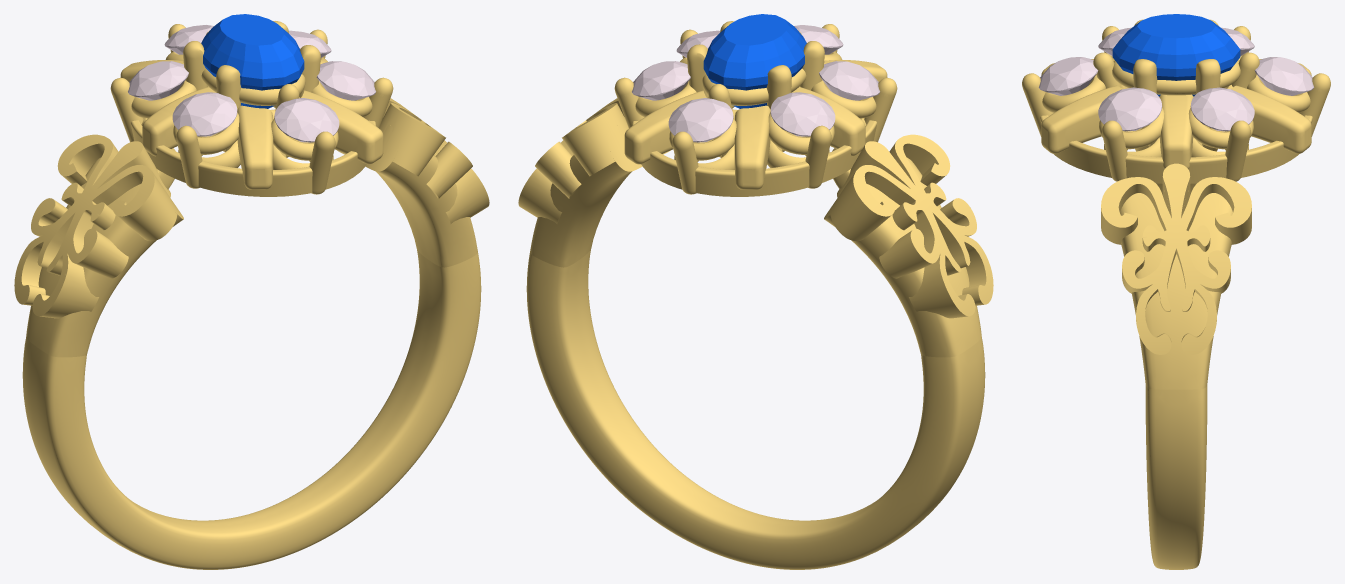
File: JillDygring.glb
The picture shows the model from 3 angles, left to right: view 1: azimuth 30°, elevation 25°; view 2: azimuth 150°, elevation 25°; view 3: azimuth 270°, elevation 25°; orthographic projection.
Visible parts, largest first — view 1: Jillian YG for 3d model, Jillian sapphire for 3d model, Jillian dia for 3d model.005, Jillian dia for 3d model, Jillian dia for 3d model.002, Jillian dia for 3d model.004, Jillian dia for 3d model.001; view 2: Jillian YG for 3d model, Jillian sapphire for 3d model, Jillian dia for 3d model.002, Jillian dia for 3d model.001, Jillian dia for 3d model.005, Jillian dia for 3d model.003, Jillian dia for 3d model; view 3: Jillian YG for 3d model, Jillian sapphire for 3d model, Jillian dia for 3d model.004, Jillian dia for 3d model.003, Jillian dia for 3d model, Jillian dia for 3d model.001.
Boxes of the visible parts, x1,y1,x2,y2 form: Jillian YG for 3d model: (14, 21, 489, 569); Jillian sapphire for 3d model: (201, 14, 304, 108); Jillian dia for 3d model.005: (172, 92, 237, 136); Jillian dia for 3d model: (274, 98, 339, 142); Jillian dia for 3d model.002: (128, 61, 188, 100); Jillian dia for 3d model.004: (316, 61, 375, 100); Jillian dia for 3d model.001: (164, 25, 213, 54); Jillian YG for 3d model: (518, 21, 993, 569); Jillian sapphire for 3d model: (703, 14, 806, 108); Jillian dia for 3d model.002: (770, 92, 835, 136); Jillian dia for 3d model.001: (668, 98, 733, 142); Jillian dia for 3d model.005: (819, 61, 879, 100); Jillian dia for 3d model.003: (632, 61, 690, 100); Jillian dia for 3d model: (794, 25, 843, 54); Jillian YG for 3d model: (1022, 19, 1330, 569); Jillian sapphire for 3d model: (1112, 14, 1240, 96); Jillian dia for 3d model.004: (1098, 87, 1162, 131); Jillian dia for 3d model.003: (1190, 87, 1254, 131); Jillian dia for 3d model: (1038, 57, 1098, 95); Jillian dia for 3d model.001: (1254, 57, 1314, 95).
Size of the model in its own units: 19.76 by 22.27 by 11.99.
